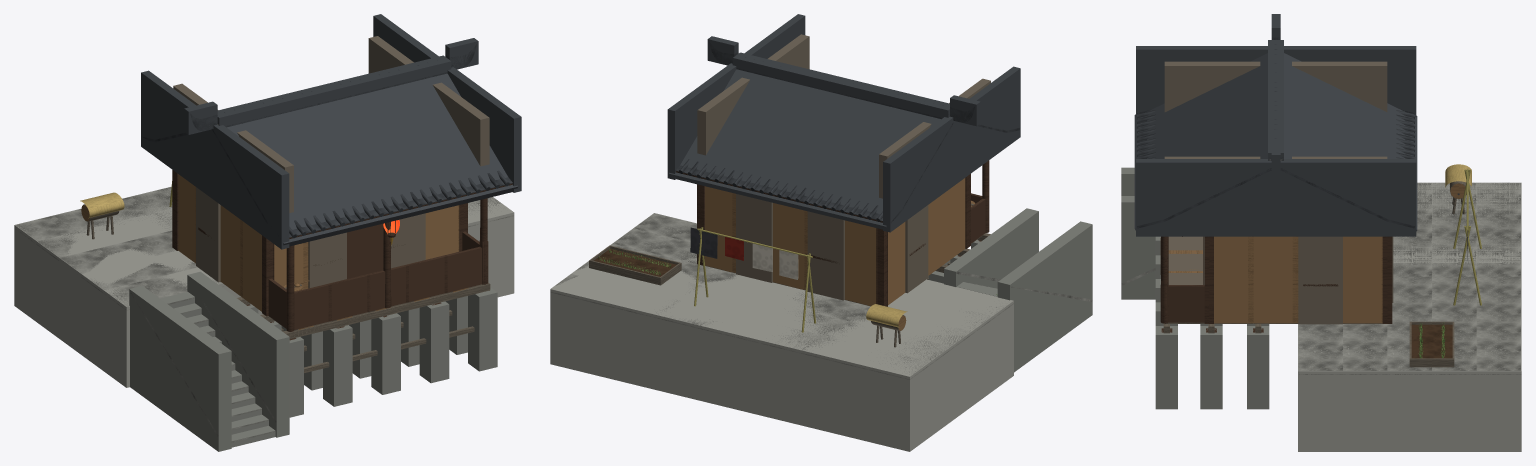
The model's file is kit_slope_terrace.gltf.
3 views of the same model, side by side, from view 1: azimuth 30°, elevation 25°; view 2: azimuth 150°, elevation 25°; view 3: azimuth 270°, elevation 25° (orthographic). The views are drawn at different scales.
Parts seen in each view (by area): view 1: Far, Near, Detail; view 2: Far, Near, Detail; view 3: Far, Near, Detail.
Boxes of the visible parts, x1,y1,x2,y2 form: Far: (14,14,521,451); Near: (15,44,513,442); Detail: (80,181,399,291); Far: (550,14,1092,451); Near: (550,42,1092,379); Detail: (589,200,975,347); Far: (1121,14,1521,451); Near: (1121,37,1521,374); Detail: (1182,164,1481,367).
Size of the model in its own units: 10.02 by 6.76 by 8.98.
Materials: 26 (25 with a texture image).
